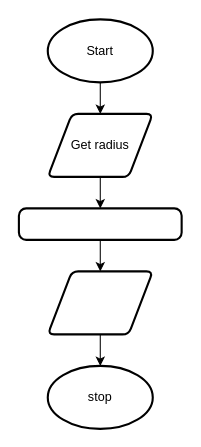
Image size: 201x447. Some labels were removed from this diagram. Each missing label, with the box of its shape:
return volume: (46, 270, 153, 335)
Volume = 4/3 * π * radius ³: (17, 207, 182, 240)
